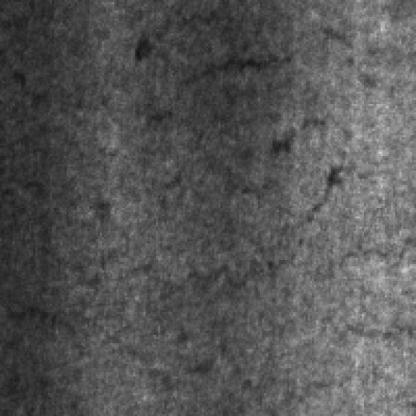crazing: (0, 252, 331, 387), (137, 27, 362, 191), (200, 110, 356, 248)
